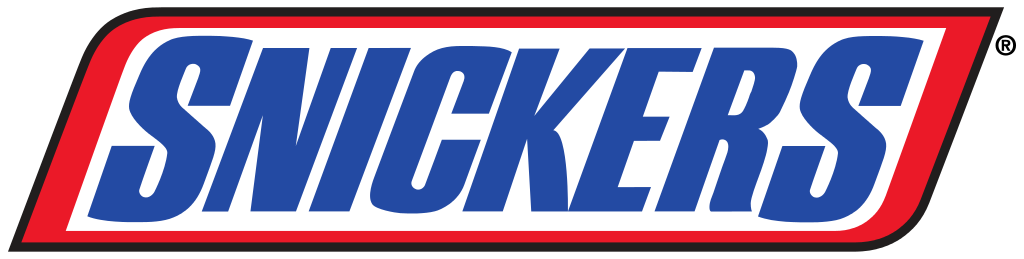snickers: (81, 33, 924, 222), (86, 33, 924, 222), (81, 35, 924, 222)
